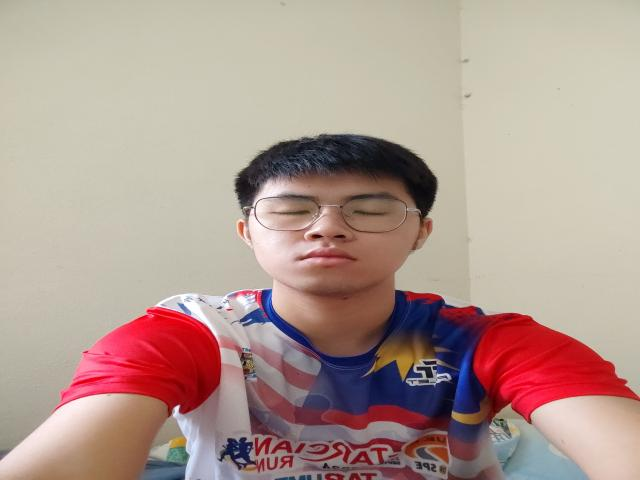eye_closed: (346, 205, 398, 221), (264, 206, 316, 220)
face: (244, 178, 421, 295)
